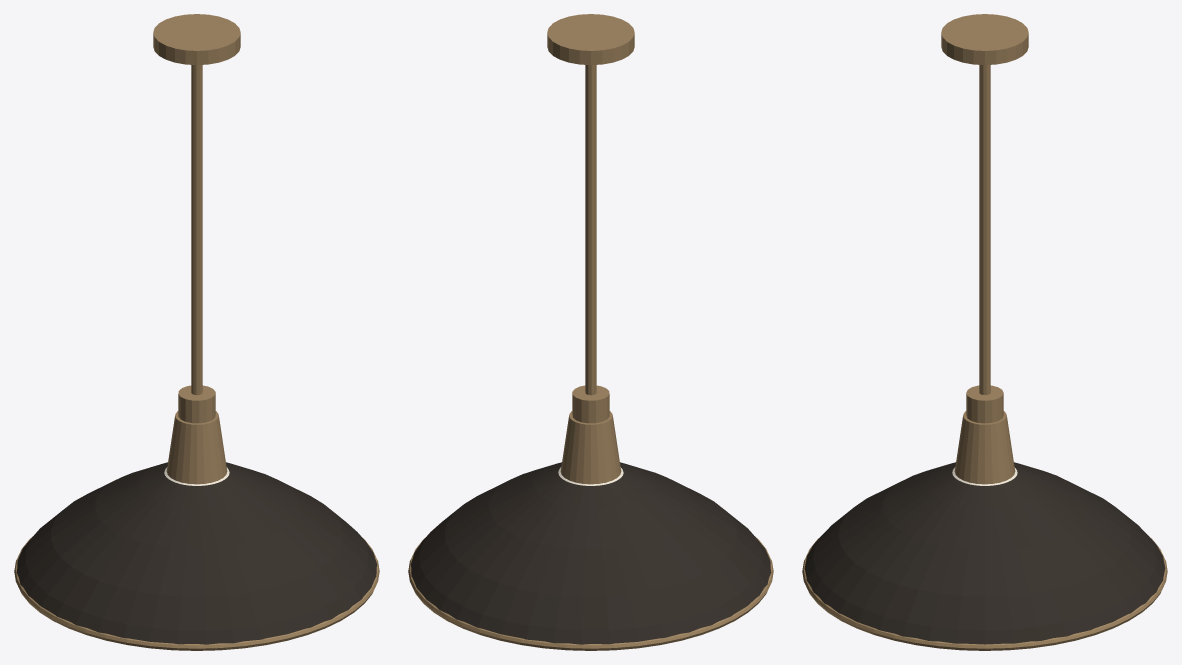
File: pendant.glb
3 renders of one model, left to right at view 1: azimuth 30°, elevation 25°; view 2: azimuth 150°, elevation 25°; view 3: azimuth 270°, elevation 25°, orthographic.
Visible parts, largest first — view 1: m10_pendant; view 2: m10_pendant; view 3: m10_pendant.
Boxes of the visible parts, x1,y1,x2,y2 form: m10_pendant: [14, 14, 379, 650]; m10_pendant: [408, 14, 773, 650]; m10_pendant: [802, 14, 1167, 650].
Bounding box in the file's own units: 0.584 × 0.9575 × 0.584.
